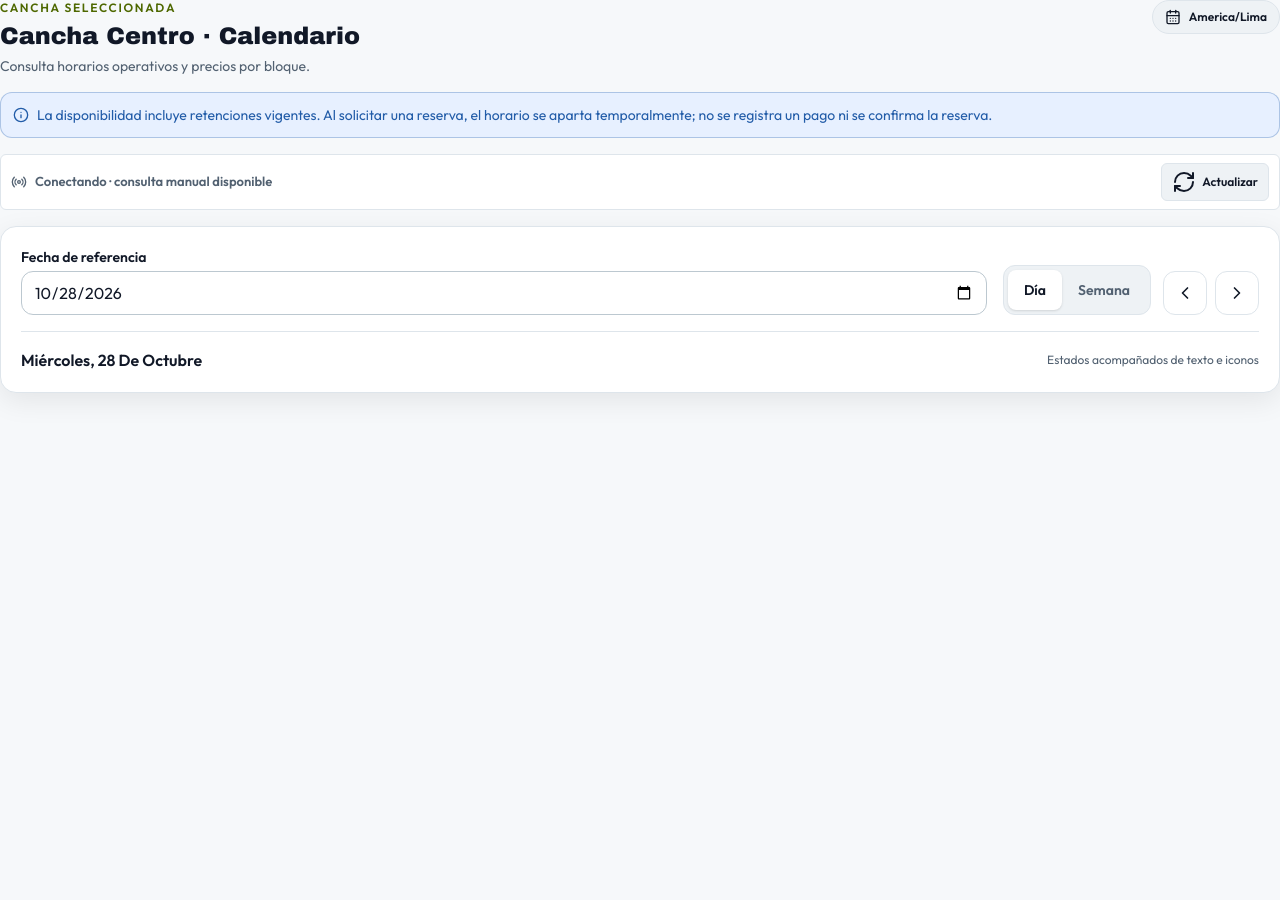
Test: Fase 4A: retenciones de reserva › refresca el calendario público y deja visible el conflicto al competir por un horario
Type "2026-10-26" into the date field labelled "Fecha de referencia". click: (504, 293)
box: [21,271,987,315]
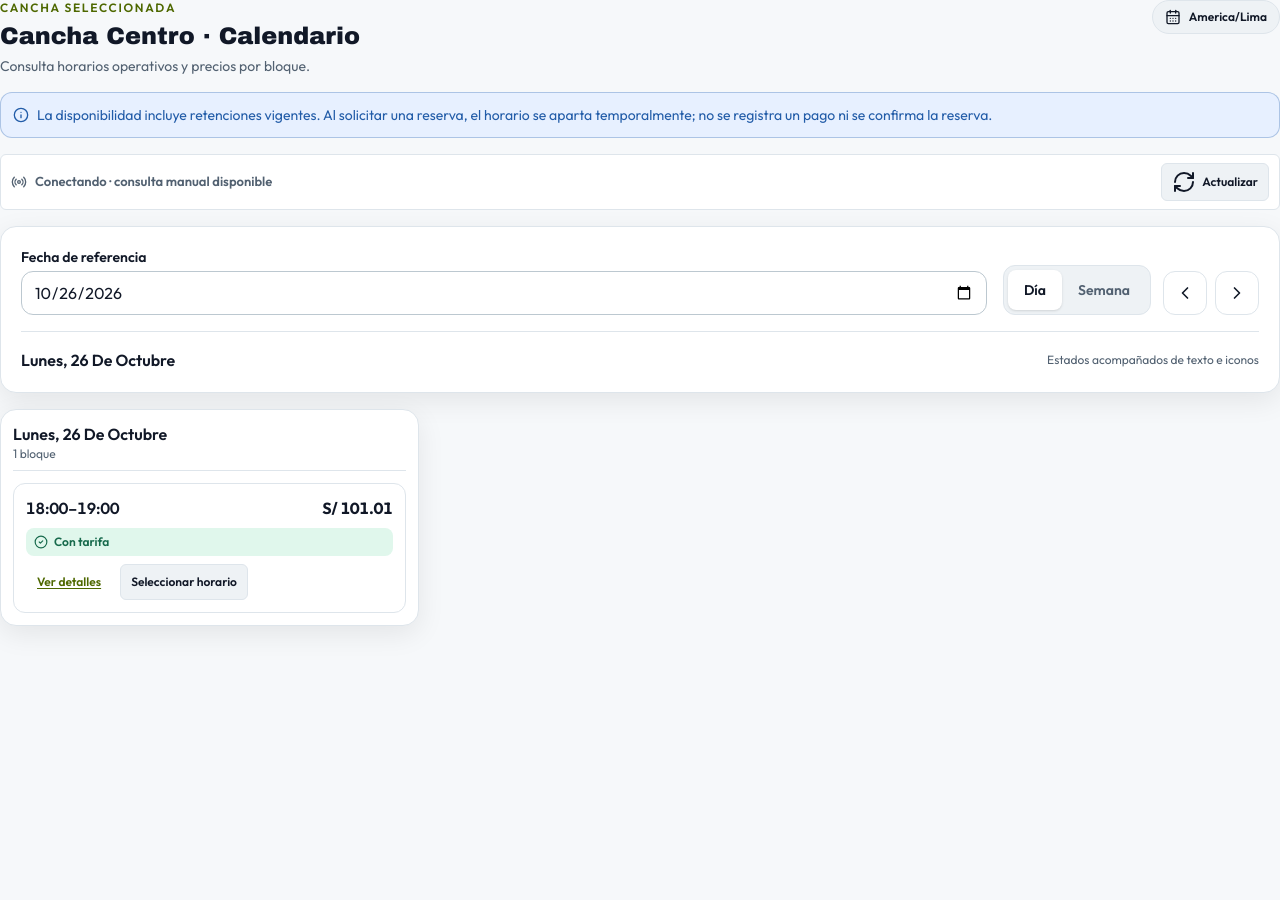
Click the button "Seleccionar horario". click: (184, 582)
box: [120,564,248,600]
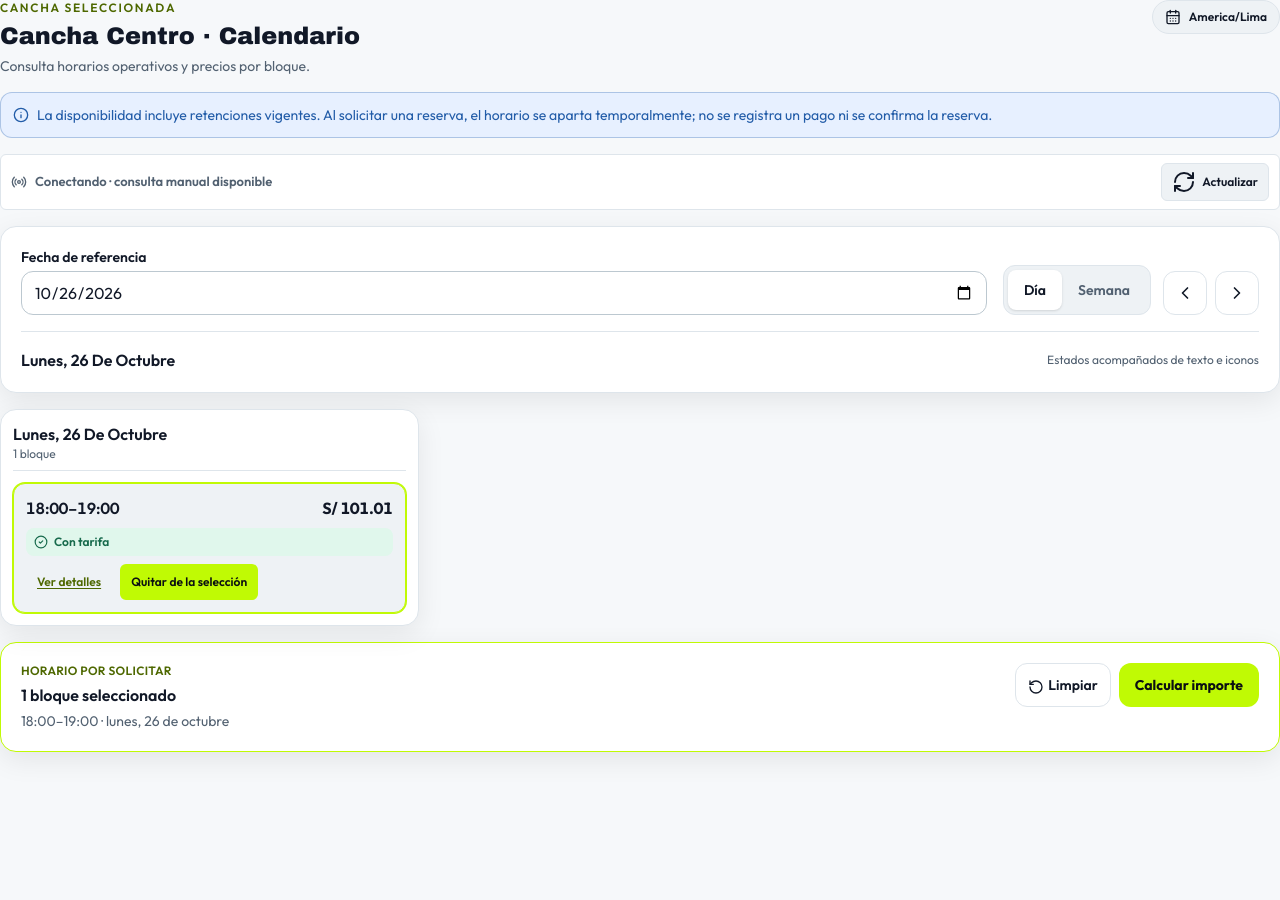
Click the button "Calcular importe". click: (1189, 685)
box: [1119,663,1259,707]
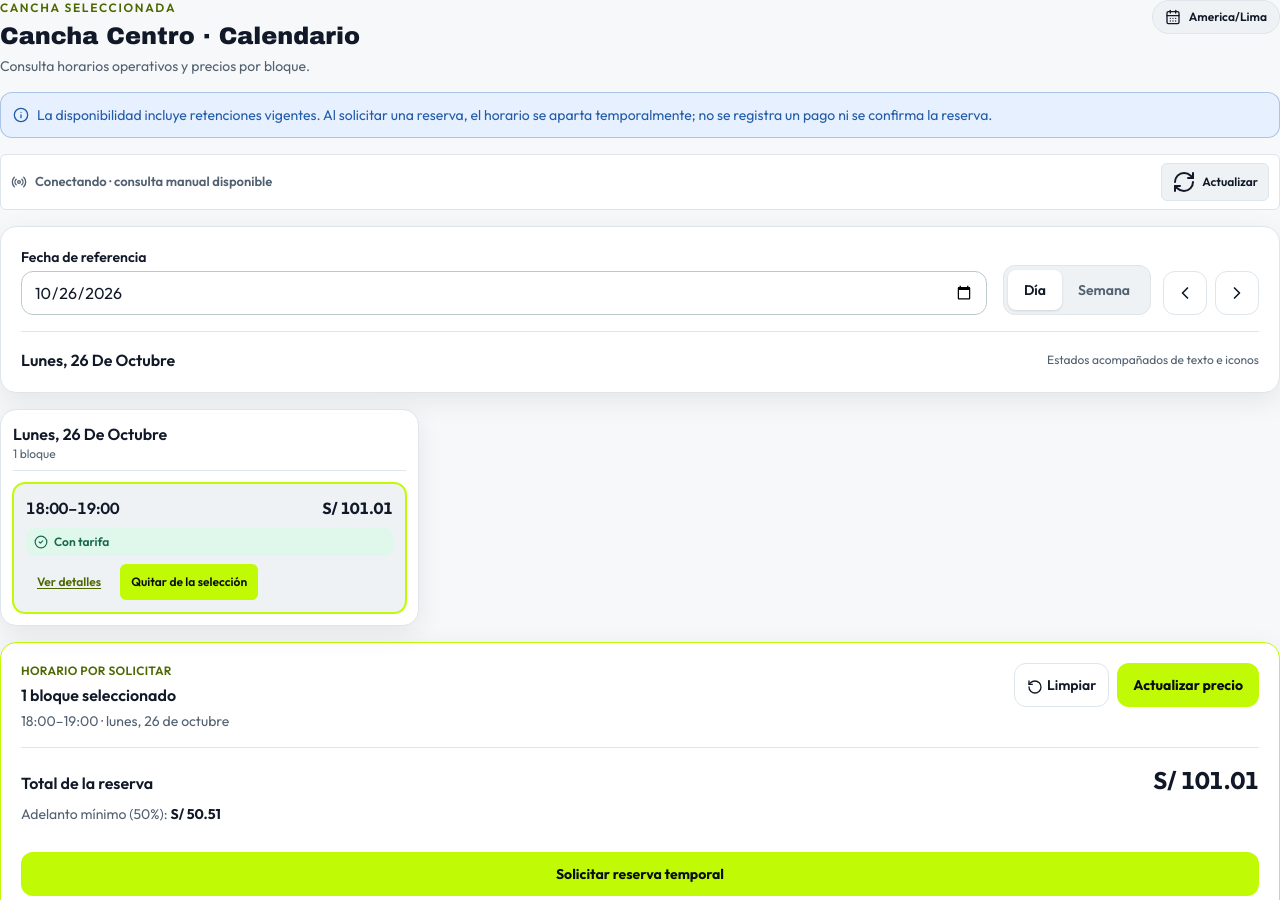
Click the button "Solicitar reserva temporal". click: (640, 874)
box: [21,852,1259,896]
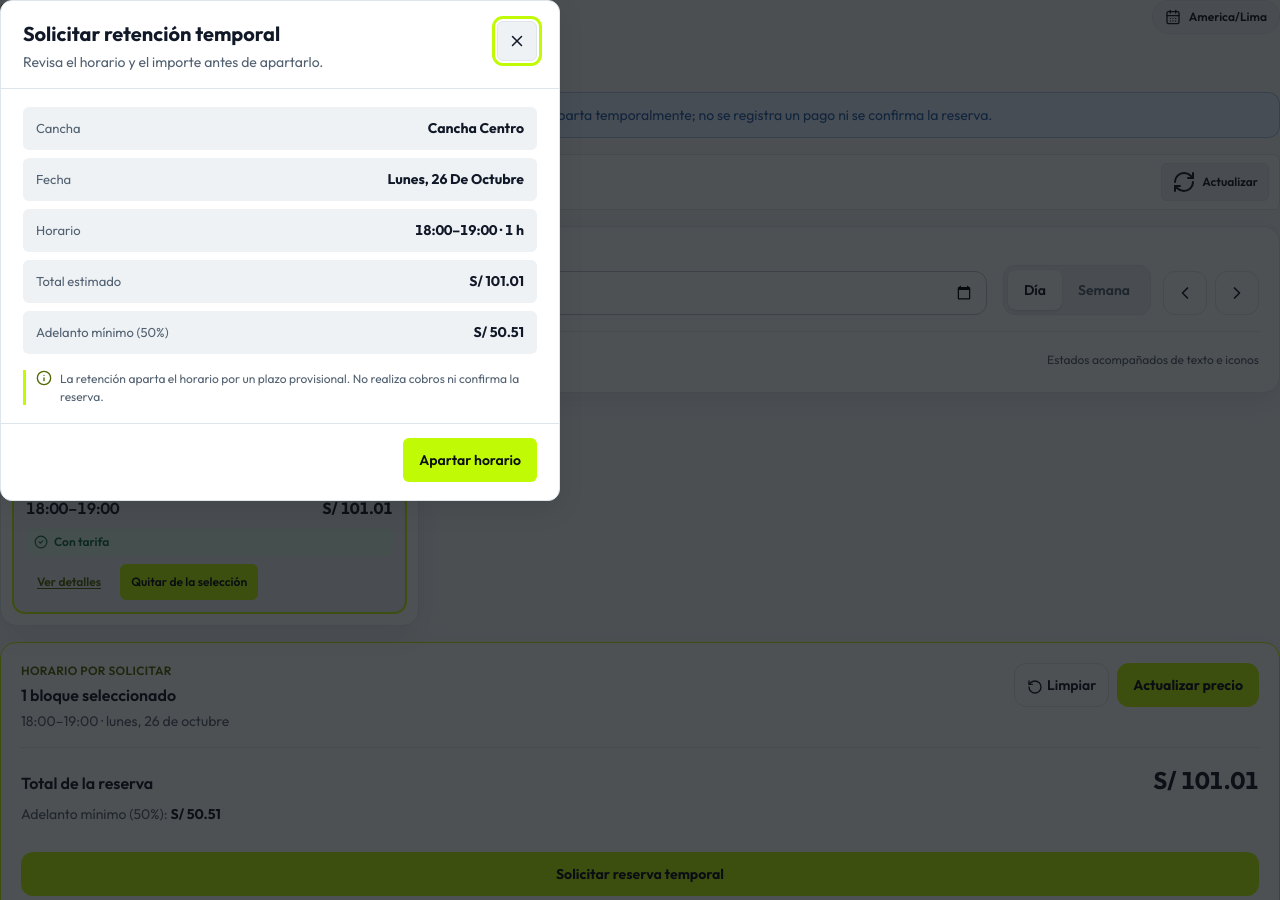
Click the button "Apartar horario". click: (470, 460)
box: [403,438,537,482]
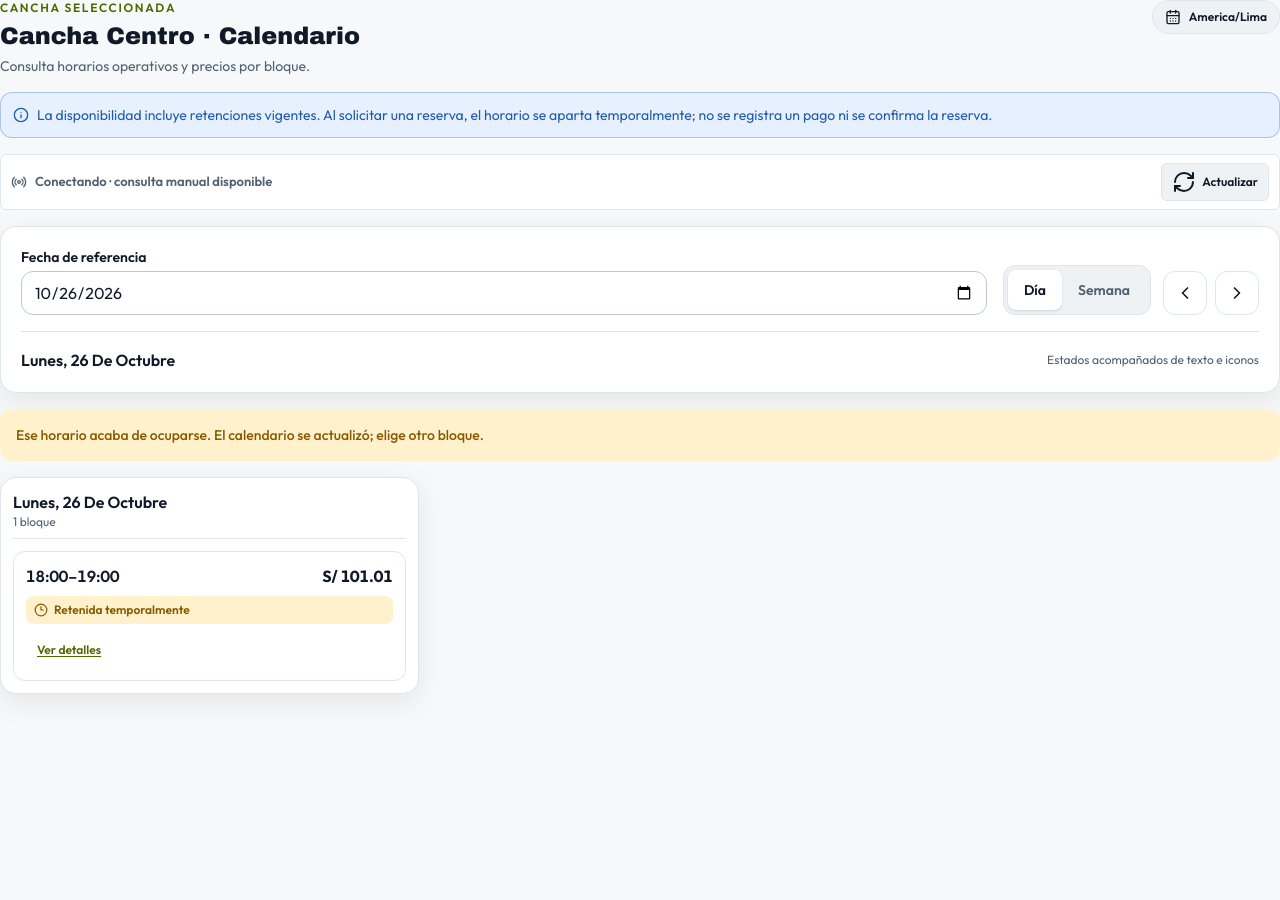
Result: the message "Ese horario acaba de ocuparse. El calendario se actualizó; elige otro bloque." is shown at [0,409,1279,461]
Result: the text "Retenida temporalmente" is shown at [54,602,190,618]
Result: the text "Horario por solicitar" is gone
